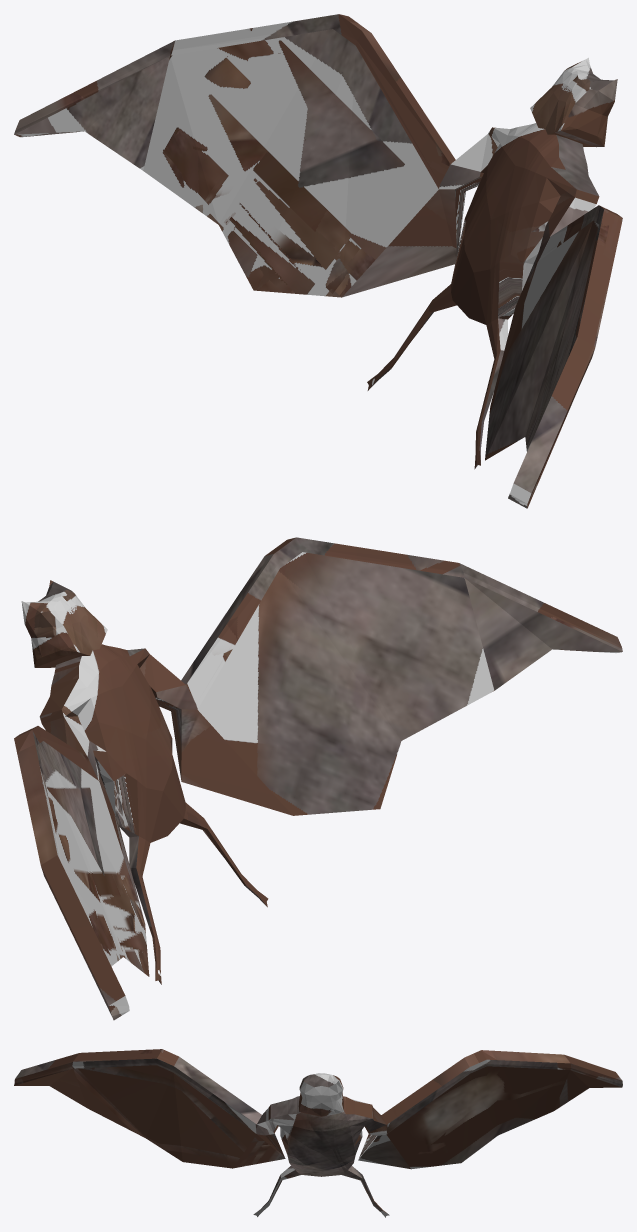
File: Enemigo112.obj
The picture shows the model from 3 angles, top to bottom: view 1: azimuth 30°, elevation 25°; view 2: azimuth 150°, elevation 25°; view 3: azimuth 270°, elevation 25°; orthographic projection. The views are drawn at different scales.
Visible parts, largest first — view 1: Plano; view 2: Plano; view 3: Plano.
Part boxes in pixels (box(x1,y1,x2,y2)): Plano: box(14, 14, 622, 508); Plano: box(14, 537, 622, 1020); Plano: box(14, 1049, 622, 1217).
Bounding box in the file's own units: 0.743 × 0.6524 × 1.89.
1 material, 1 textured.
